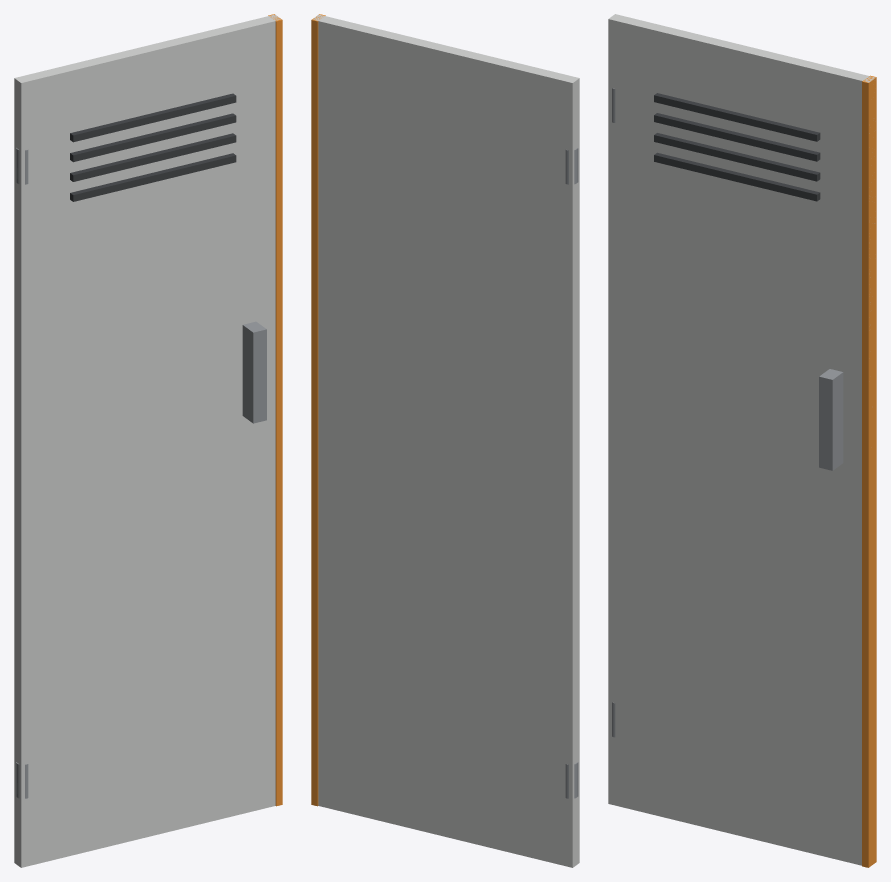
The model's file is SM_Sub2_LockerDoor.fbx.
The picture shows the model from 3 angles, left to right: view 1: azimuth 30°, elevation 25°; view 2: azimuth 150°, elevation 25°; view 3: azimuth 330°, elevation 25°; orthographic projection.
Visible parts, largest first — view 1: SM_Sub2_LockerDoor; view 2: SM_Sub2_LockerDoor; view 3: SM_Sub2_LockerDoor.
Part boxes in pixels (x1,y1,x2,y2): SM_Sub2_LockerDoor: (14,14,282,867); SM_Sub2_LockerDoor: (311,14,579,867); SM_Sub2_LockerDoor: (608,14,876,867).
Bounding box in the file's own units: 0.4814 × 1.38 × 0.058.
